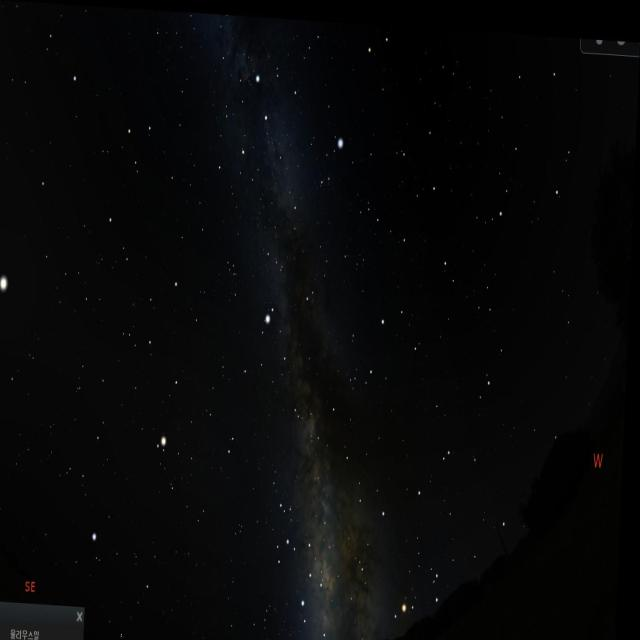aquila: (241, 294, 330, 436)
cygnus: (240, 60, 308, 240)
lyra: (312, 122, 347, 189)
sagittarius: (276, 511, 332, 636)
